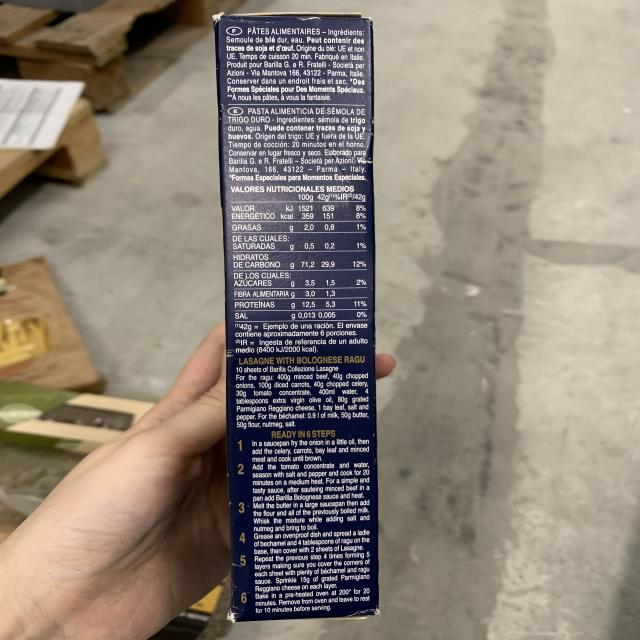object_name: (221, 19, 381, 613)
